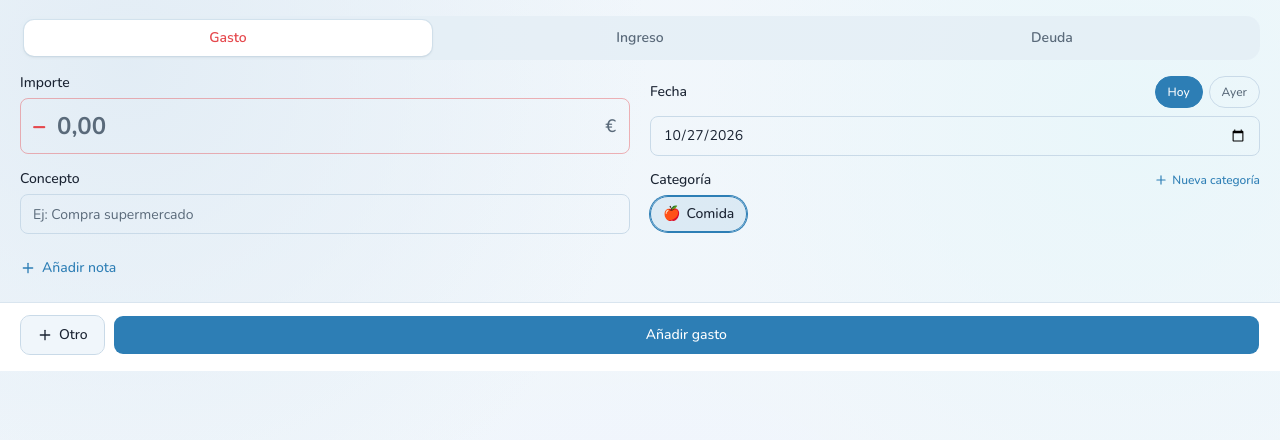
it: ExpenseForm duplicate check › recovers when the server action throws (offline / 5xx)
In the field labelled "Importe": (325, 126) [20,98,630,154], type "12.5"
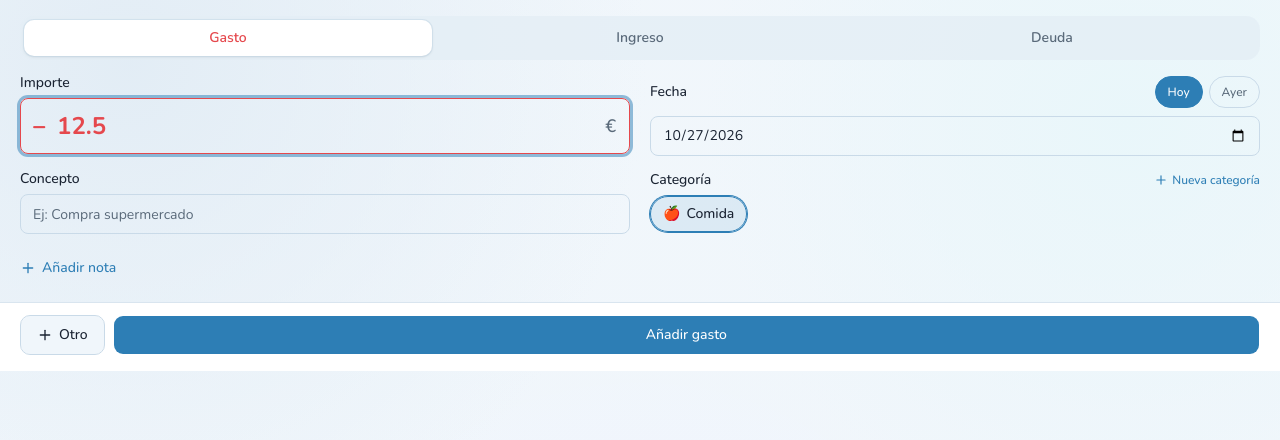
Click the button "Añadir gasto": (686, 335) [113,315,1260,355]
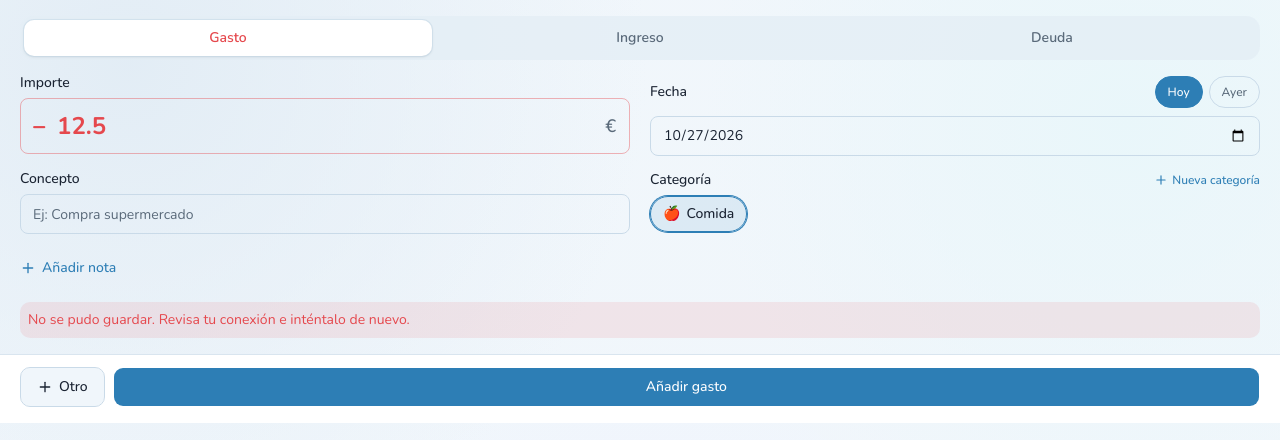
expect the button "Añadir gasto" is enabled: met, box [113,367,1260,407]
expect the text "No se pudo guardar. Revisa tu conexión e inténtalo de nuevo." is shown: met, box [20,302,1260,338]
